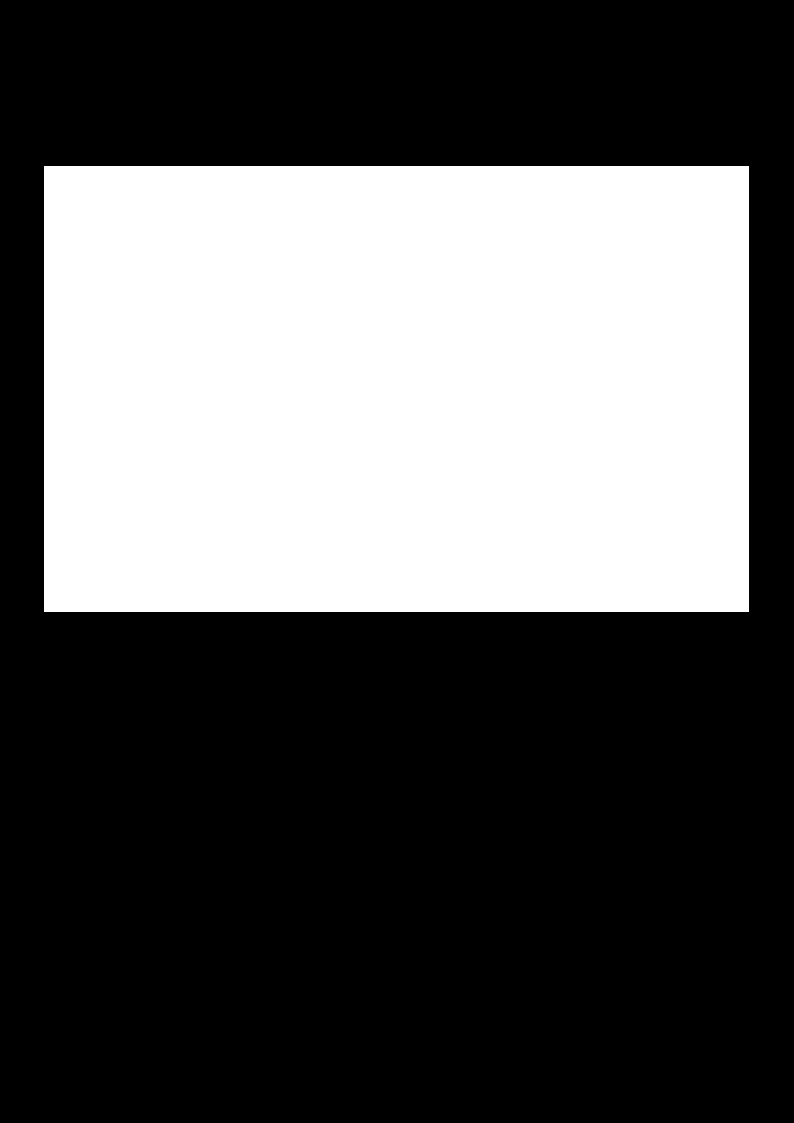table: (44, 166, 748, 611)
